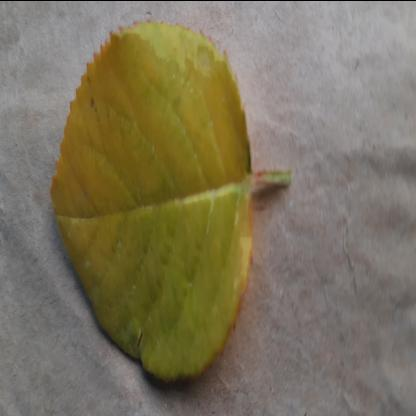black-spot: (50, 26, 252, 378)
